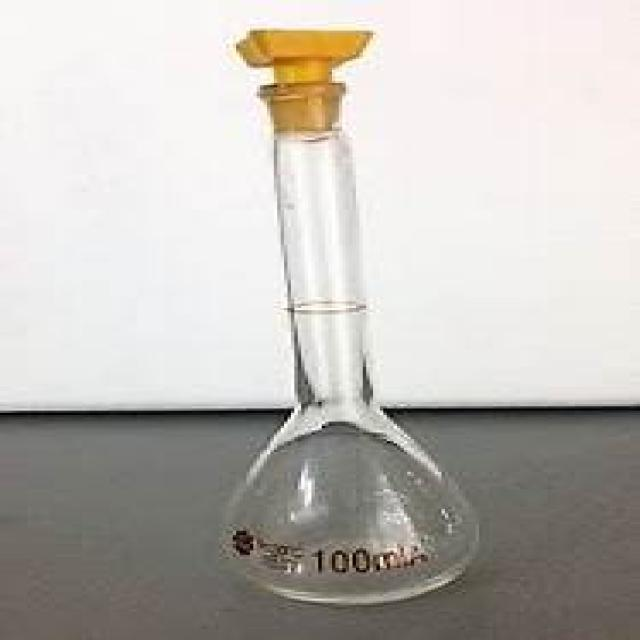Volumetric flask: (185, 6, 495, 602)
